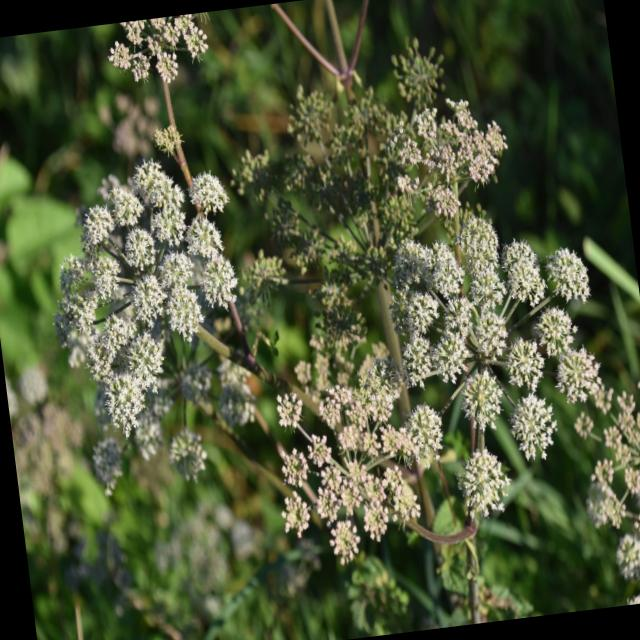Poisonous-Hemlock: (33, 146, 284, 494), (262, 338, 544, 602), (342, 56, 552, 338), (512, 237, 640, 613), (105, 8, 252, 100)
